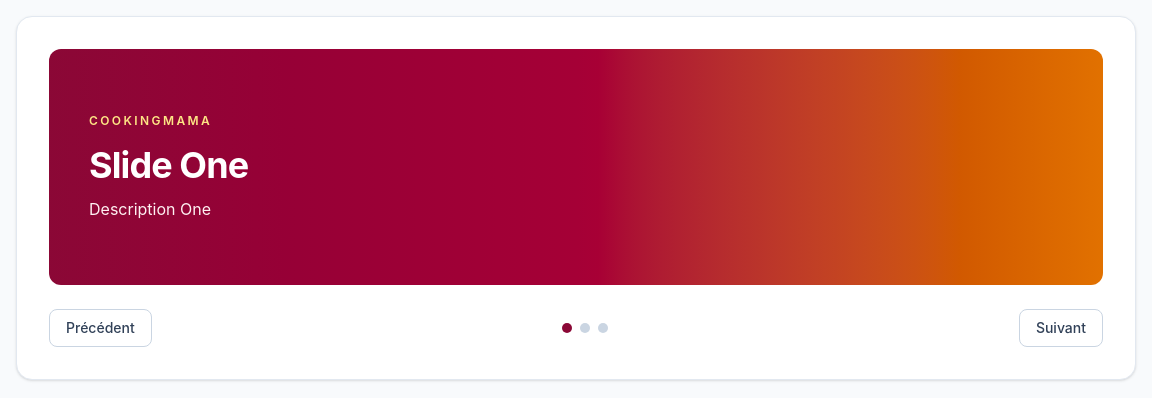
HeroCarousel › selects a slide from indicators
Click the button named "Aller au slide 3" at (603, 328), box [598, 323, 608, 333]
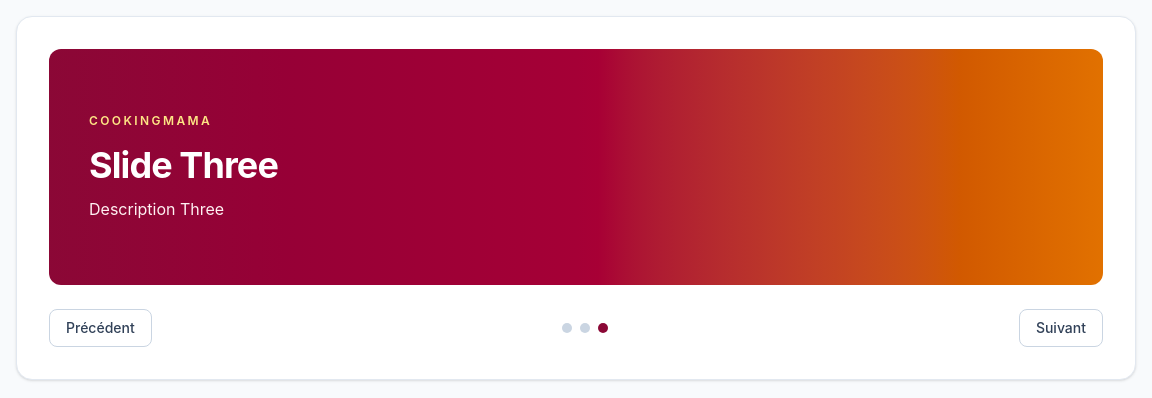
Now the heading "Slide Three" is shown, box [89, 143, 278, 187]
